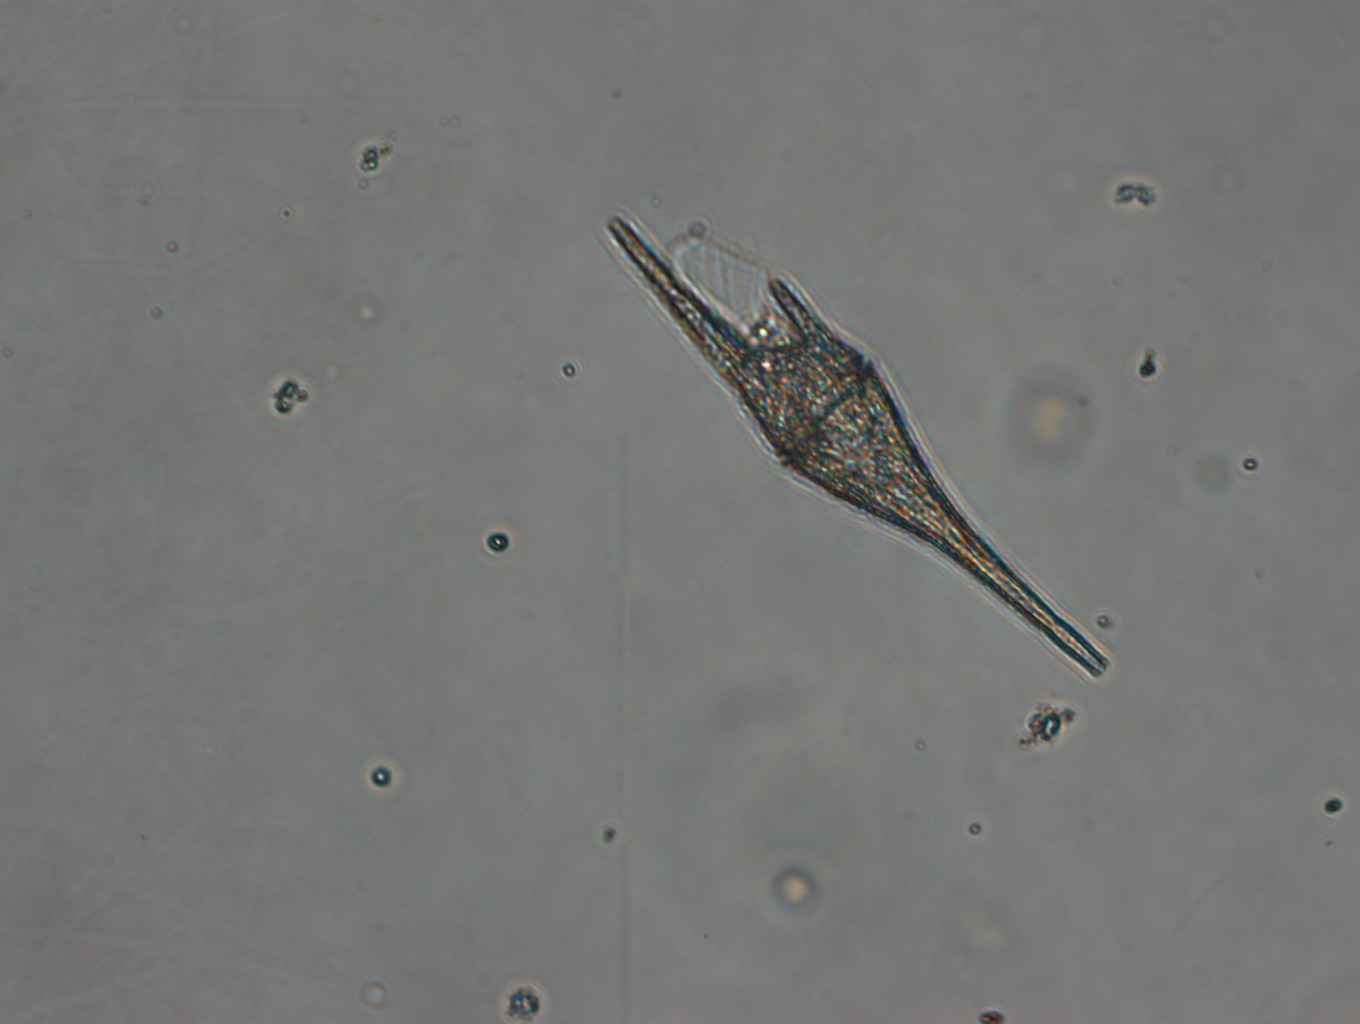ceratium furca: (599, 207, 1108, 674)
